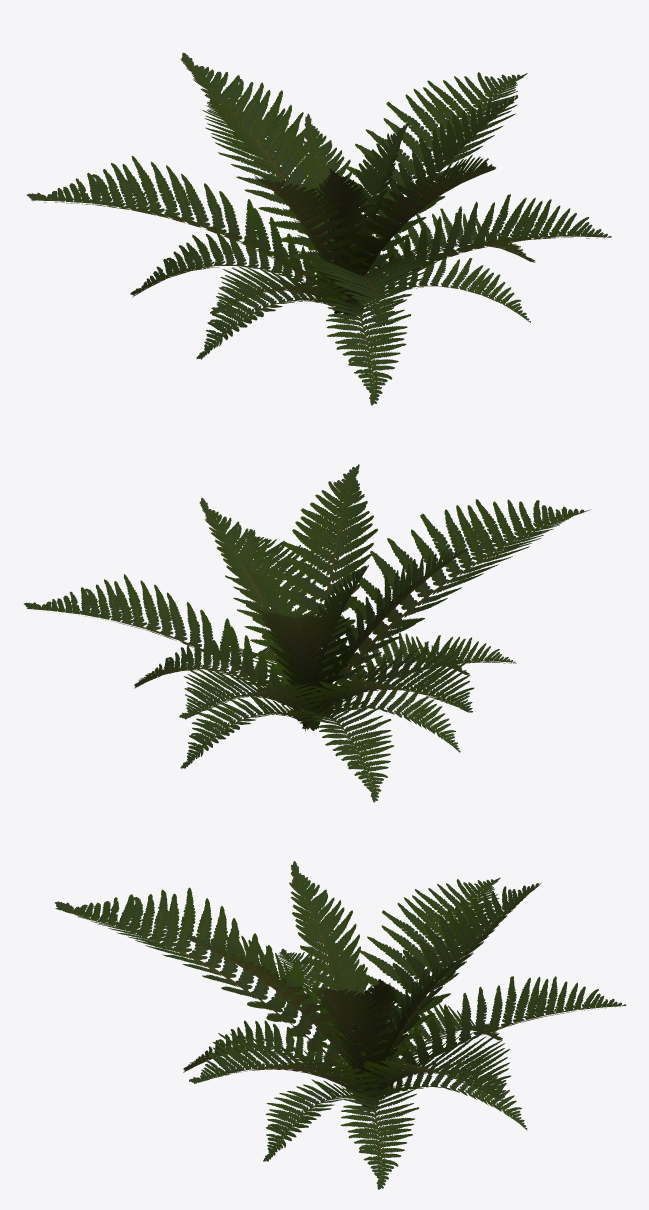
File: fern-plant.glb
3 views of the same model, one above another, from view 1: azimuth 30°, elevation 25°; view 2: azimuth 150°, elevation 25°; view 3: azimuth 270°, elevation 25° (orthographic). The views are drawn at different scales.
Size of the model in its own units: 356 by 145 by 371.
Materials: 1 (1 with a texture image).
